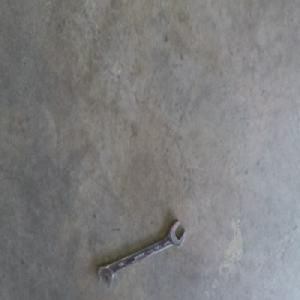Wrench: (97, 220, 185, 287)
